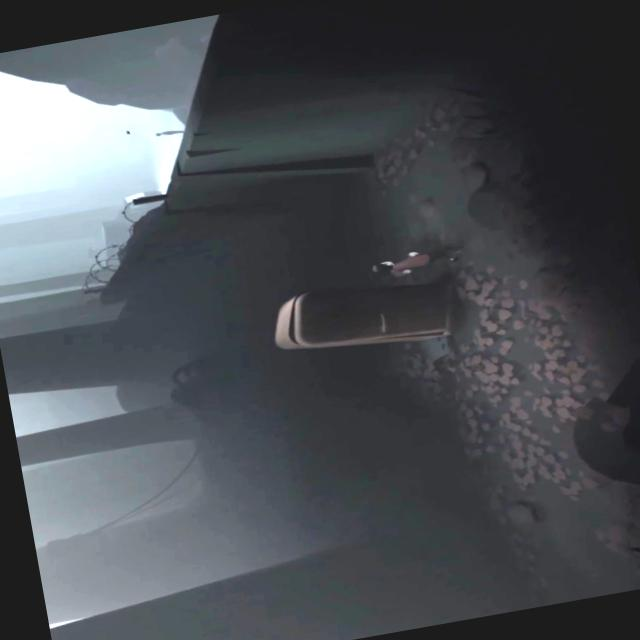boy: (370, 243, 462, 282)
human: (154, 126, 186, 136)
